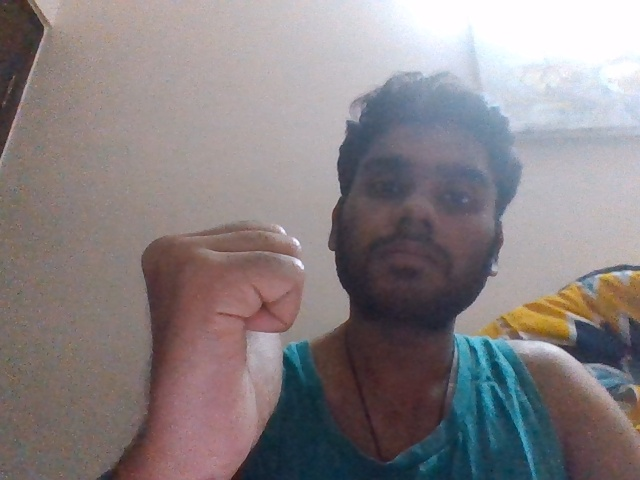yes: (120, 216, 310, 460)
